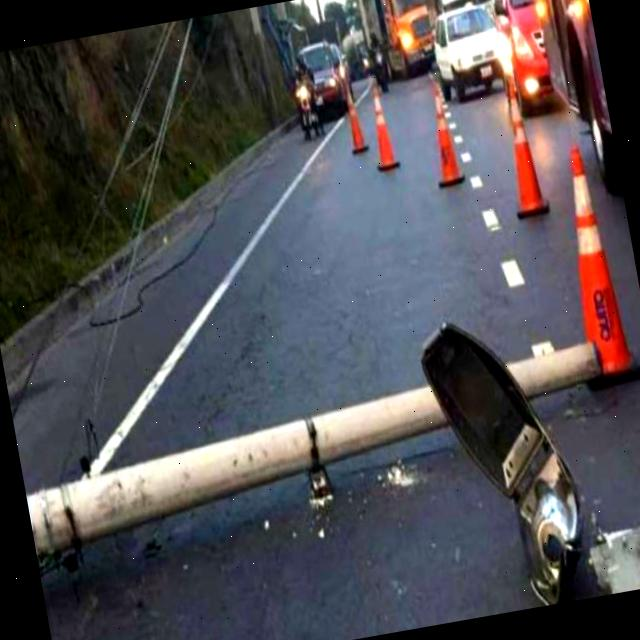Broken Pole: (25, 316, 605, 603)
